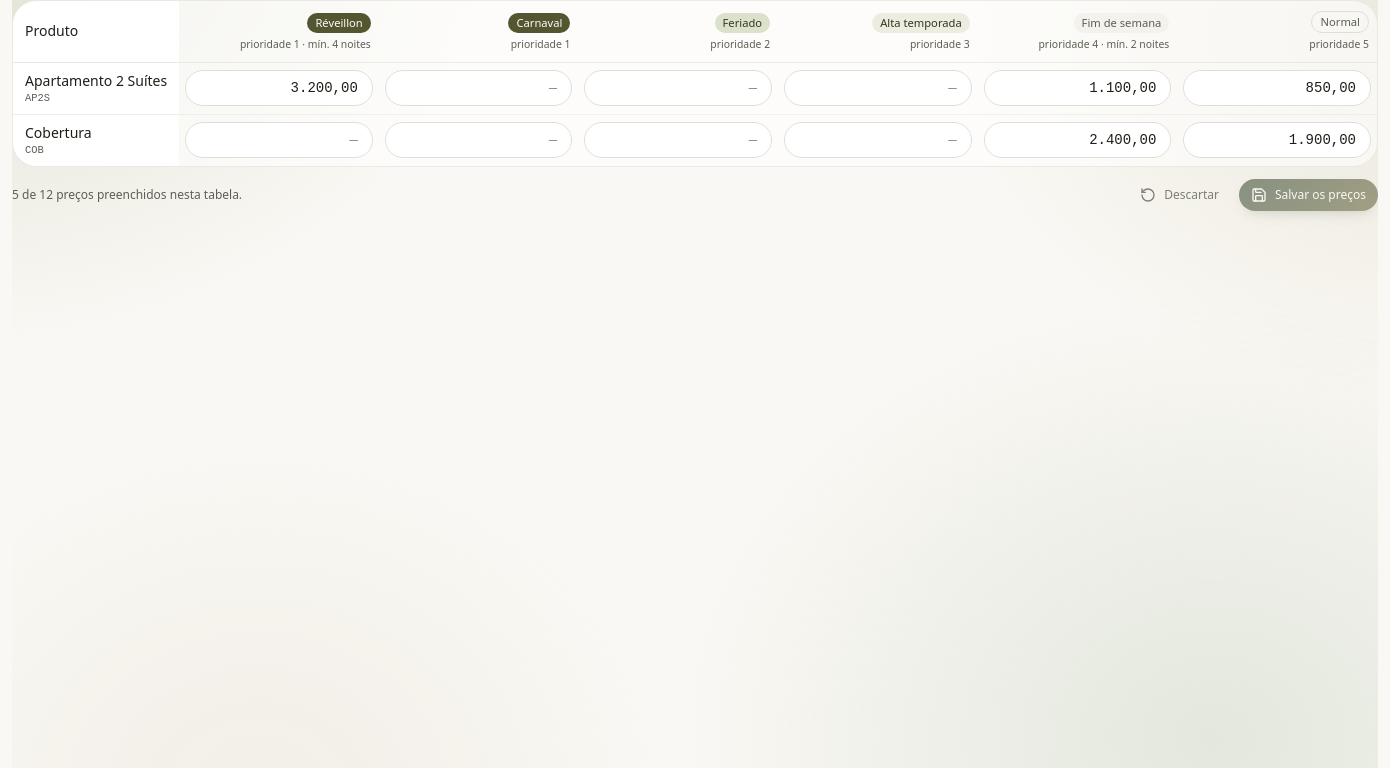
Test case: GradeDeTarifas › recusa o envio enquanto houver célula inválida
Replace the text in the field named "Cobertura — Normal" with "mil e duzentos" at (1277, 140), box [1183,122,1371,158]
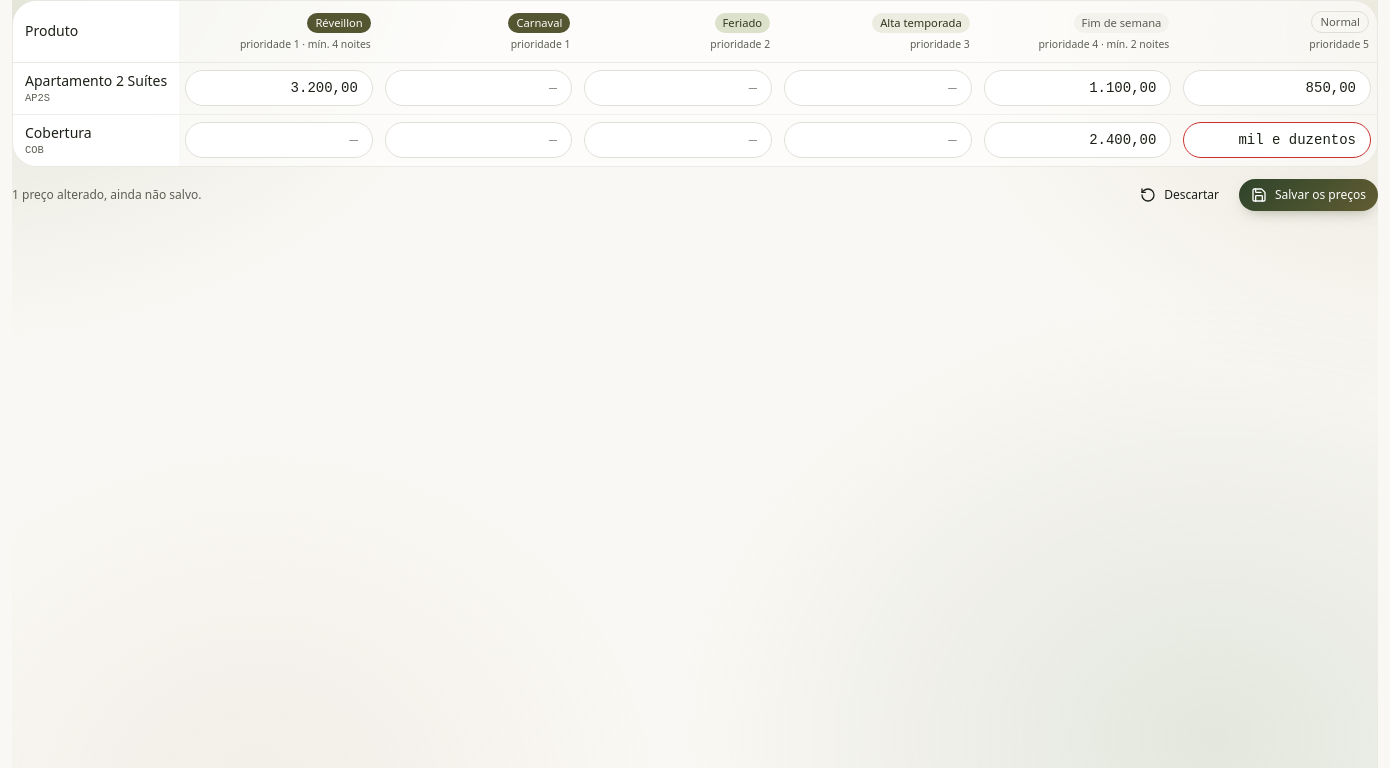
Click the button "Salvar os preços" at (1308, 195), box [1239,179,1378,211]
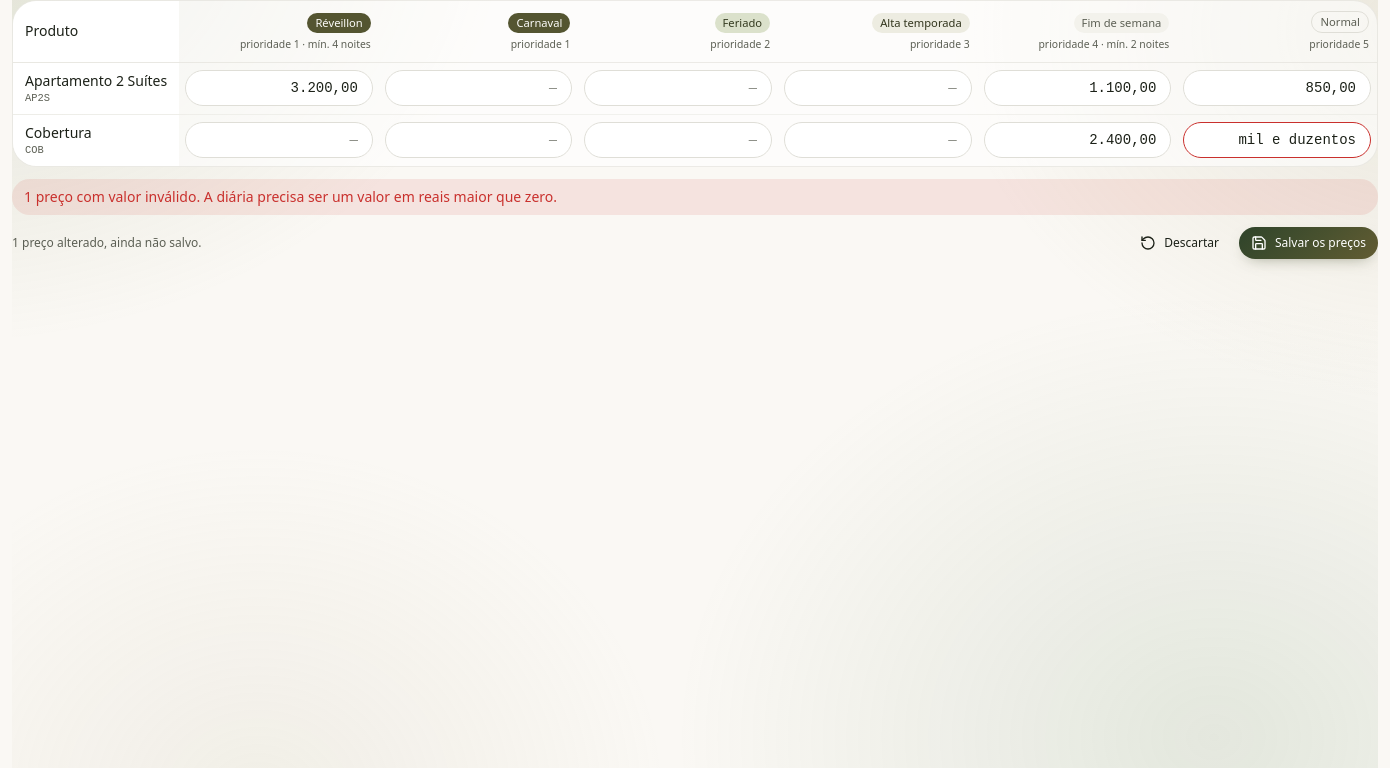
expect the message shows "valor inválido": met, box [24,187,557,206]
